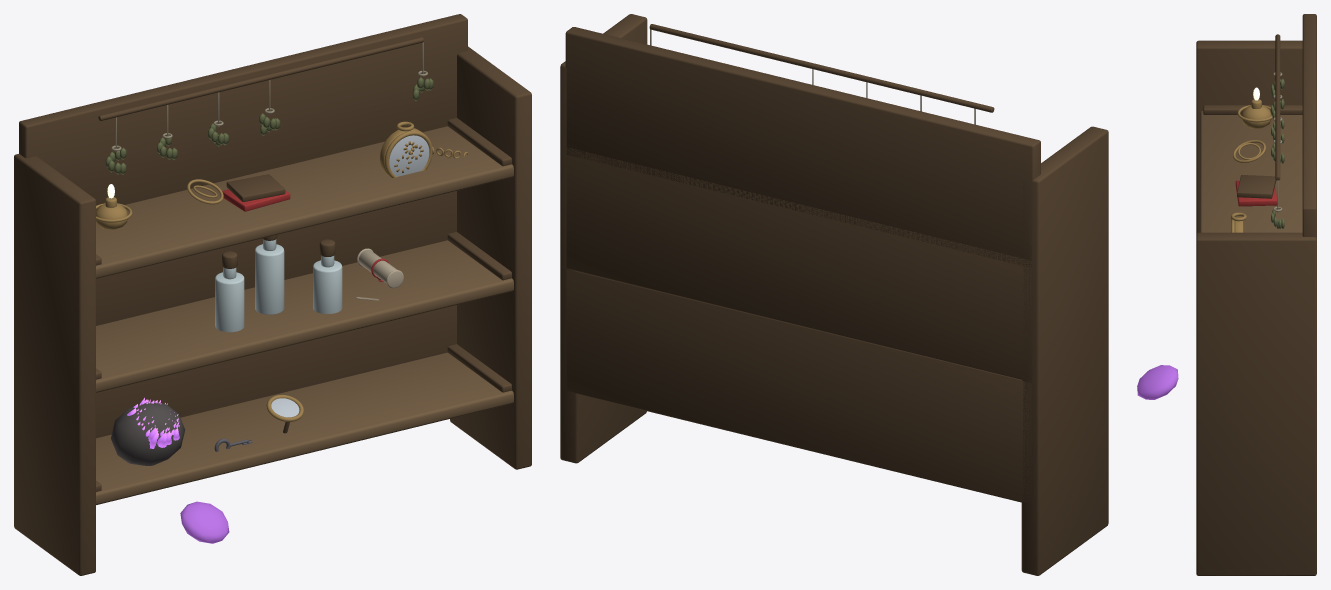
3 views of the same model, side by side, from view 1: azimuth 30°, elevation 25°; view 2: azimuth 150°, elevation 25°; view 3: azimuth 270°, elevation 25° (orthographic). The views are drawn at different scales.
Visible parts, largest first — view 1: shelves, geode_shell, rail, bottle_1, bottle_0, geode_face, bottle_2, watch_glass, book_1; view 2: shelves, rail; view 3: shelves, geode_face, rail, book_1, lamp_base, book_0, astro_ring.
Boxes of the visible parts, x1,y1,x2,y2 form: shelves: (14, 14, 531, 575); geode_shell: (111, 402, 184, 465); rail: (98, 37, 423, 120); bottle_1: (255, 244, 284, 314); bottle_0: (215, 272, 244, 332); geode_face: (180, 501, 229, 543); bottle_2: (313, 260, 342, 313); watch_glass: (389, 135, 429, 176); book_1: (226, 174, 285, 201); shelves: (560, 14, 1108, 575); rail: (649, 24, 994, 112); shelves: (1196, 14, 1316, 575); geode_face: (1137, 365, 1178, 399); rail: (1275, 34, 1280, 180); book_1: (1237, 175, 1276, 198); lamp_base: (1241, 105, 1271, 128); book_0: (1235, 180, 1277, 206); astro_ring: (1233, 140, 1265, 162).
Size of the model in its own units: 2.66 by 2.31 by 1.01.
